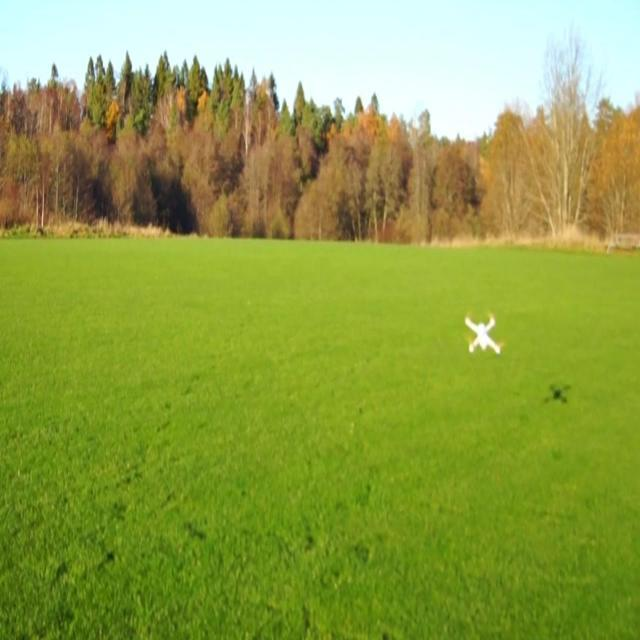UAV: (464, 313, 502, 355)
